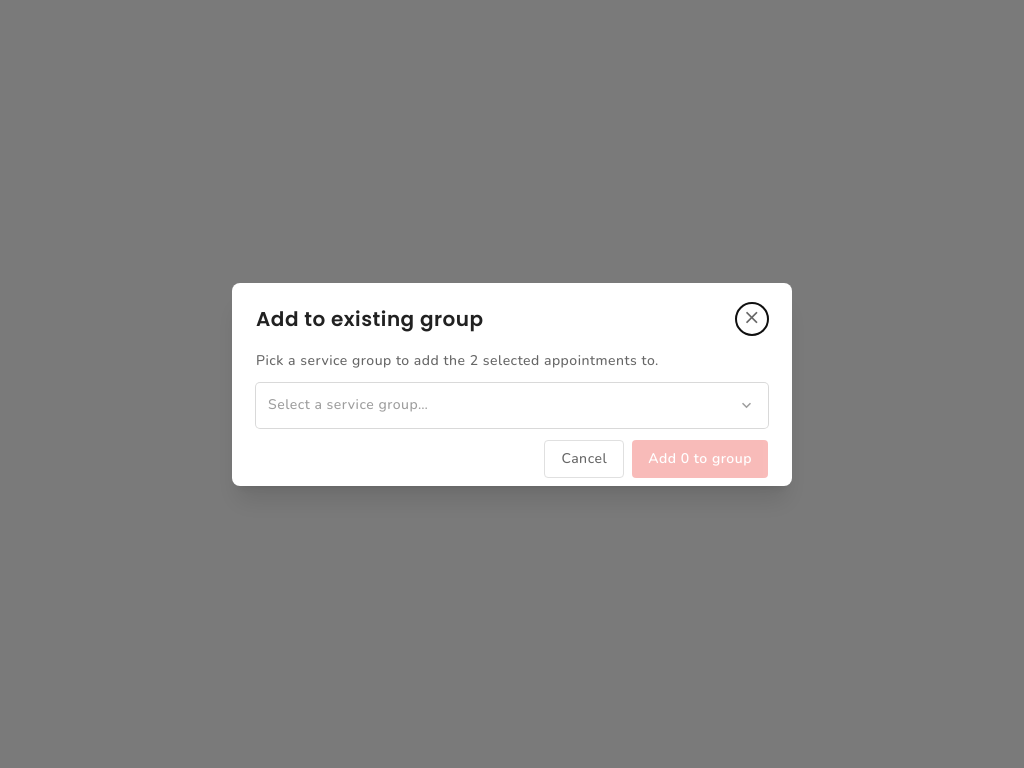
Test case: MapAddToGroupSubModal › shows a date-sync banner when a group is selected
Click the button labelled "Select a service group…".
click(348, 404)  # box [256, 382, 768, 428]
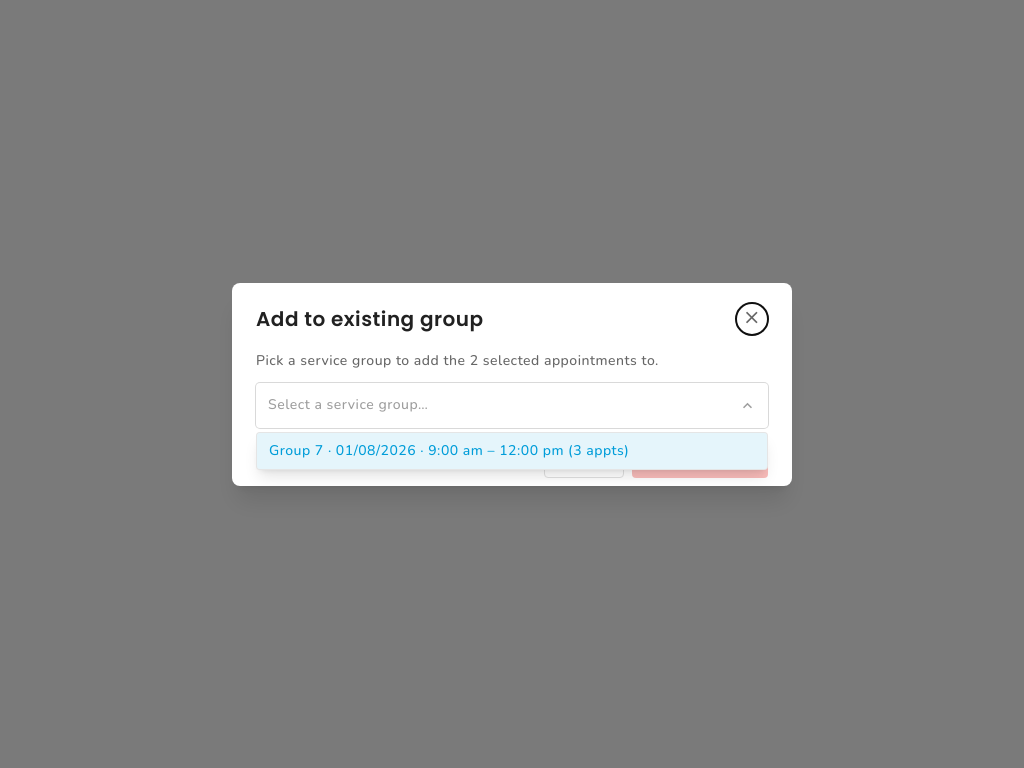
Click the option "Group 7 · 01/08/2026 · 9:00 am – 12:00 pm (3 appts)".
click(512, 450)  # box [257, 432, 767, 468]
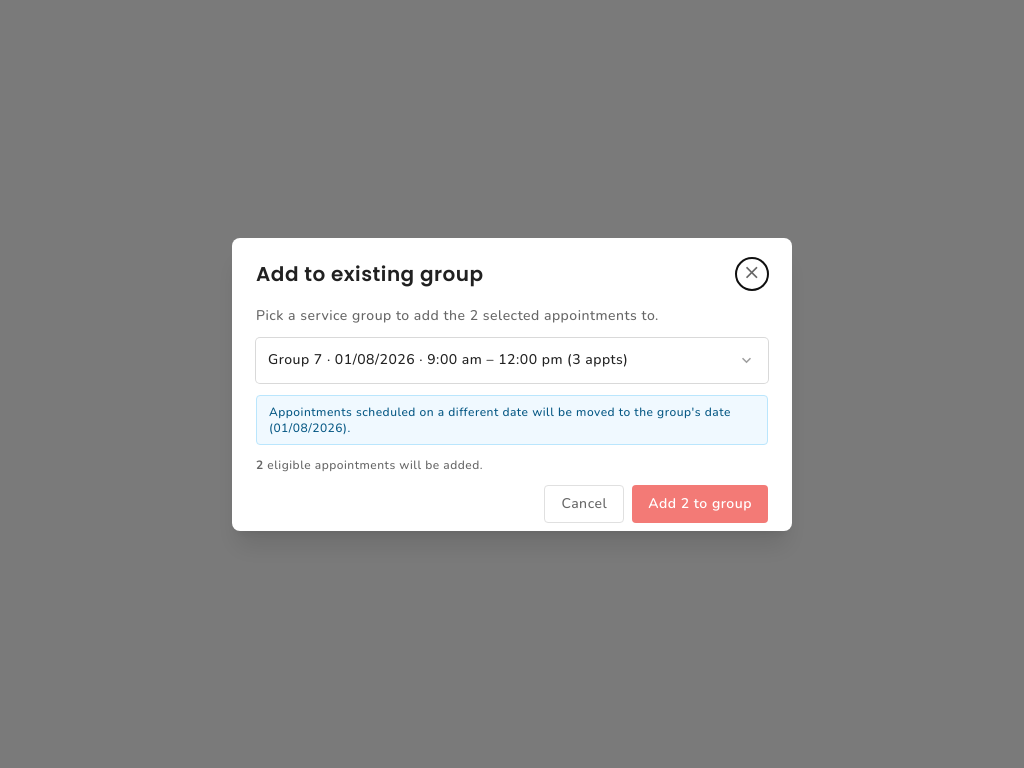
Check: the text with test id "map-add-to-group-date-sync-banner" shows "moved to the group's date (01/08/2026)", box [256, 394, 768, 444]
